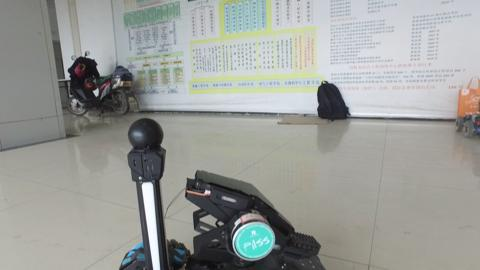bag: (312, 79, 355, 123), (456, 75, 480, 118)
chariot: (110, 114, 330, 270)
